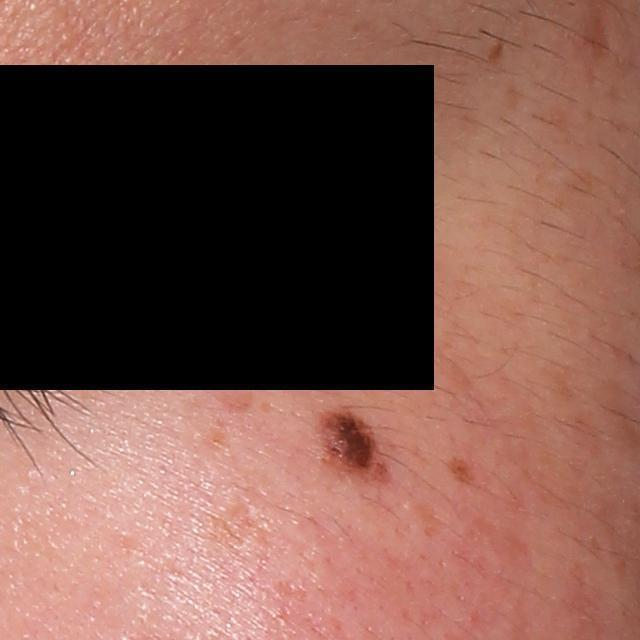melasma: (202, 500, 261, 562), (442, 457, 482, 491), (486, 40, 505, 71)
nevus: (318, 409, 393, 484)
